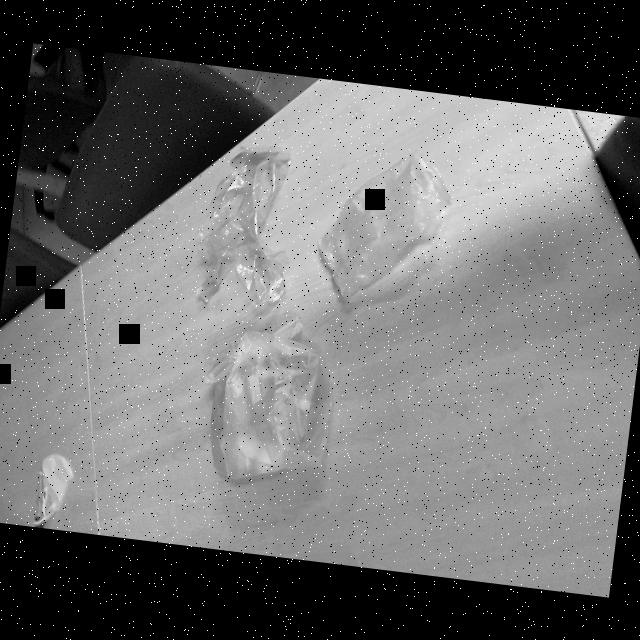plastic_bag: (173, 312, 344, 514)
scrap_paper: (296, 137, 456, 326), (170, 125, 308, 330)
